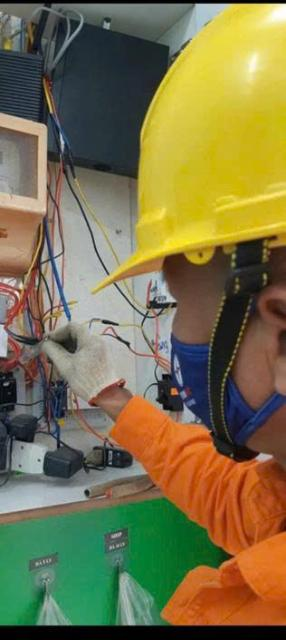gloves: (23, 307, 156, 423)
helmet: (68, 9, 286, 344)
